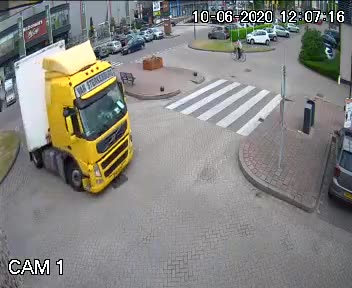car: (9, 34, 139, 197), (122, 36, 146, 55)
